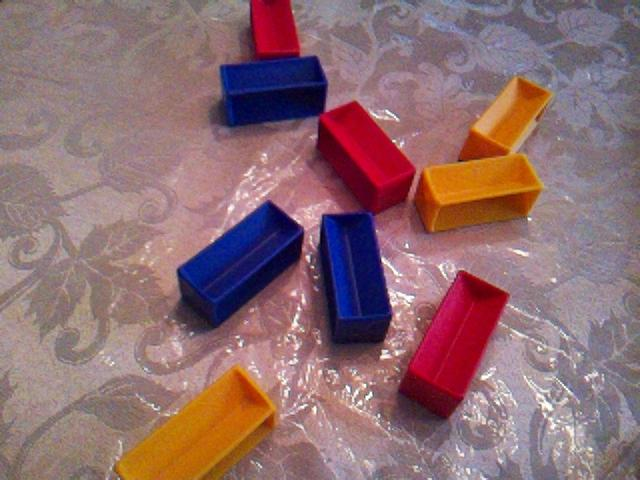blue: (175, 198, 305, 329), (318, 209, 394, 345), (218, 54, 329, 127)
red: (397, 267, 511, 419), (315, 99, 417, 215), (248, 1, 302, 60)
yellow: (113, 363, 279, 480), (414, 152, 545, 234), (457, 74, 554, 161)
